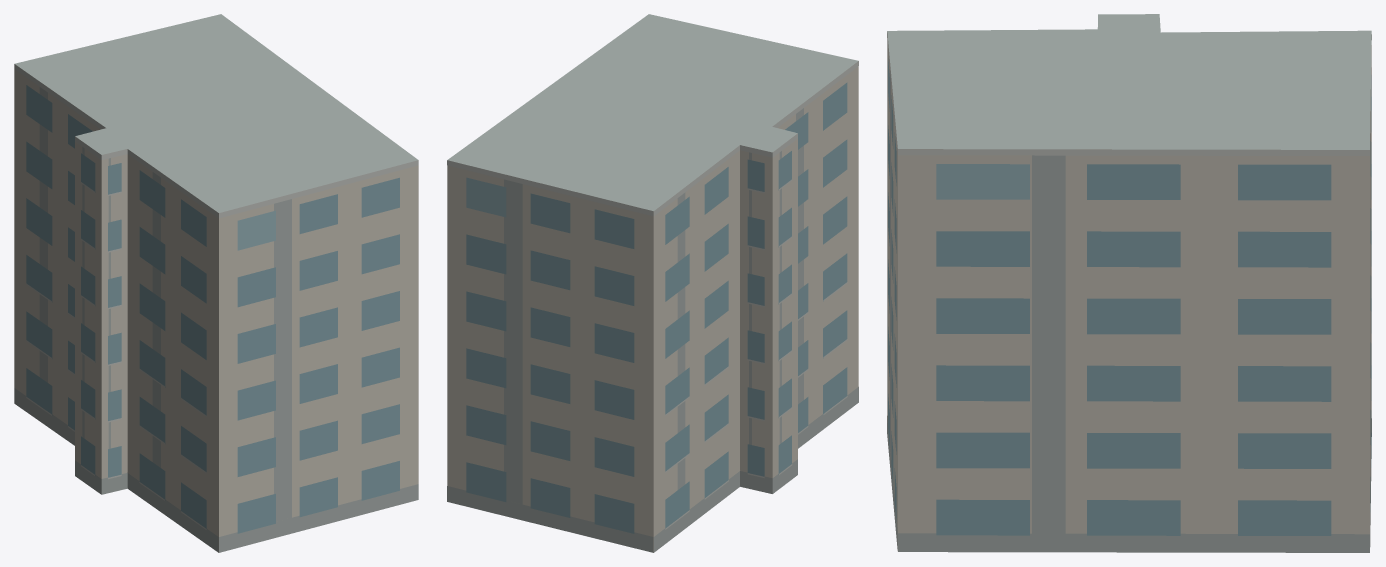
File: survey-upis-32905404.glb
3 views of the same model, side by side, from view 1: azimuth 30°, elevation 25°; view 2: azimuth 150°, elevation 25°; view 3: azimuth 270°, elevation 25° (orthographic). The views are drawn at different scales.
Visible parts, largest first — view 1: survey-upis-32905404.tmp; view 2: survey-upis-32905404.tmp; view 3: survey-upis-32905404.tmp.
Boxes of the visible parts, x1,y1,x2,y2 form: survey-upis-32905404.tmp: (14, 14, 418, 552); survey-upis-32905404.tmp: (447, 14, 858, 552); survey-upis-32905404.tmp: (887, 14, 1371, 552).
Bounding box in the file's own units: 11.52 × 15.9 × 17.34.
